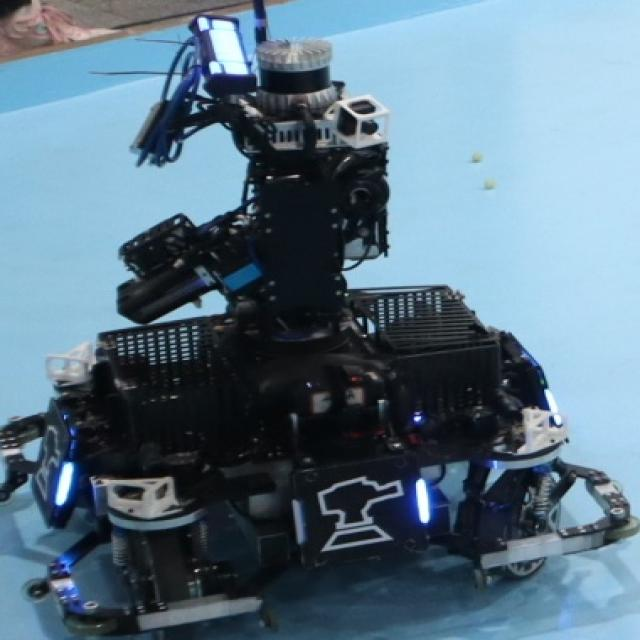Bs: (291, 473, 433, 557), (30, 415, 76, 523)
